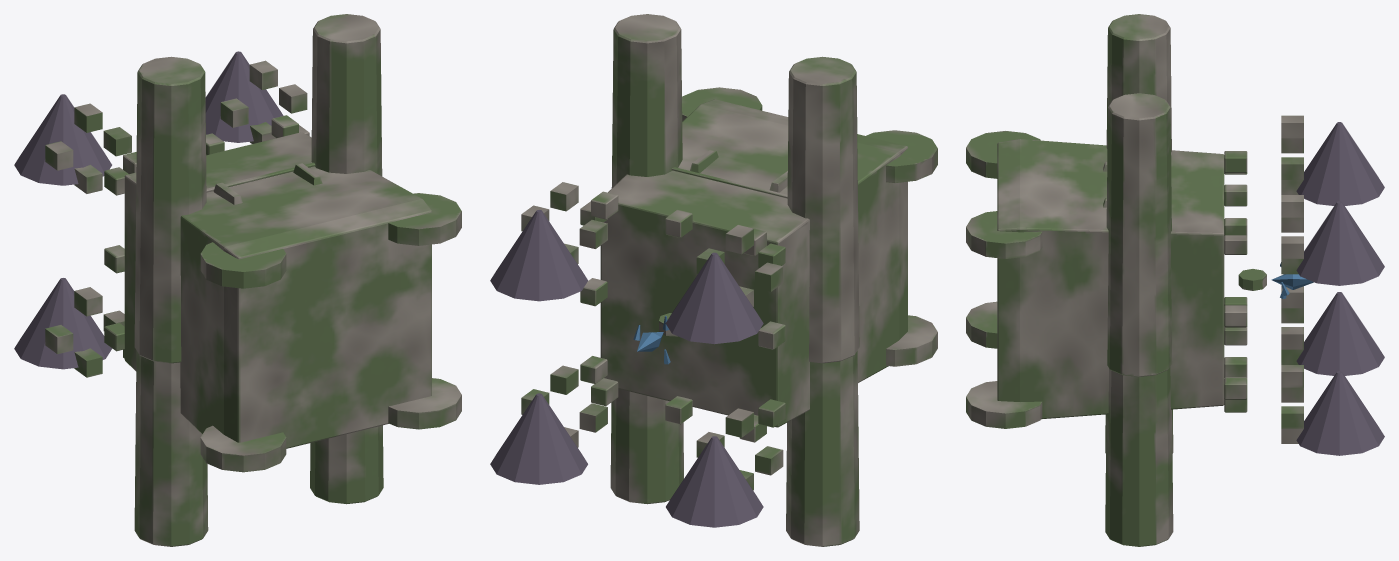
The model's file is fantasy_hq.glb.
The picture shows the model from 3 angles, left to right: view 1: azimuth 30°, elevation 25°; view 2: azimuth 150°, elevation 25°; view 3: azimuth 270°, elevation 25°; orthographic projection. The views are drawn at different scales.
Parts seen in each view (by area): view 1: fantasy_hq; view 2: fantasy_hq; view 3: fantasy_hq.
Part boxes in pixels (<box>): fantasy_hq: <box>14,14,461,546</box>; fantasy_hq: <box>490,14,937,546</box>; fantasy_hq: <box>966,14,1384,546</box>.
Bounding box in the file's own units: 0.98 × 1.66 × 1.48.
Materials: 1 (1 with a texture image).
